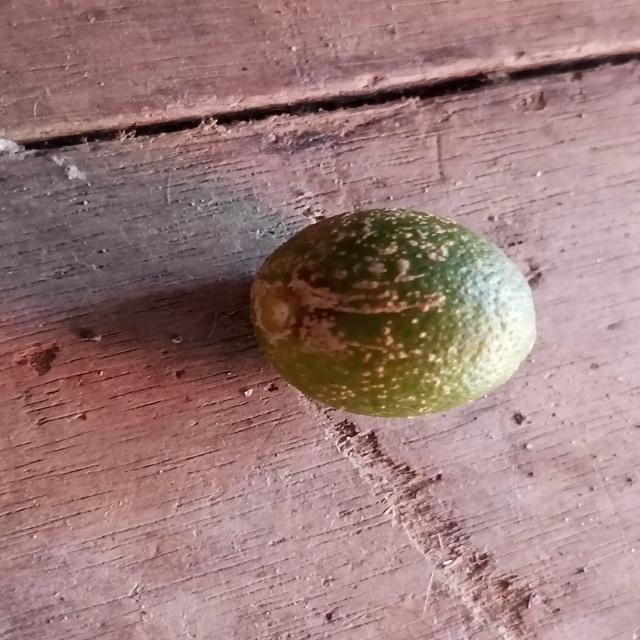scab: (256, 206, 544, 424)
